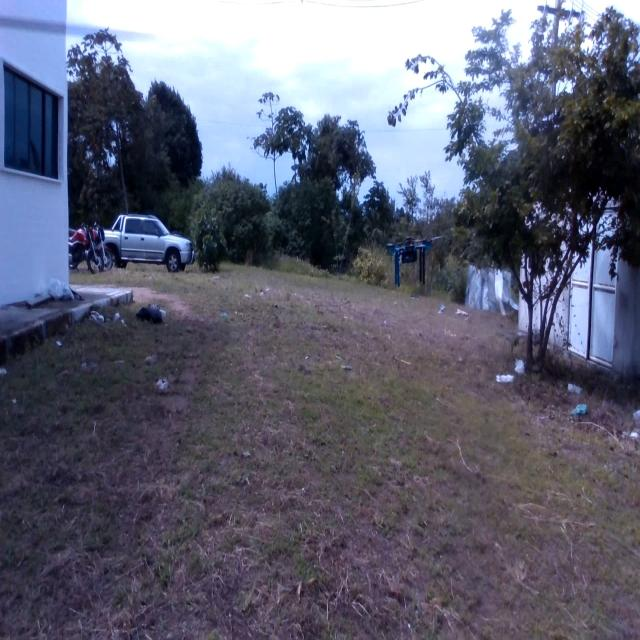-uav-: (388, 221, 433, 295)
